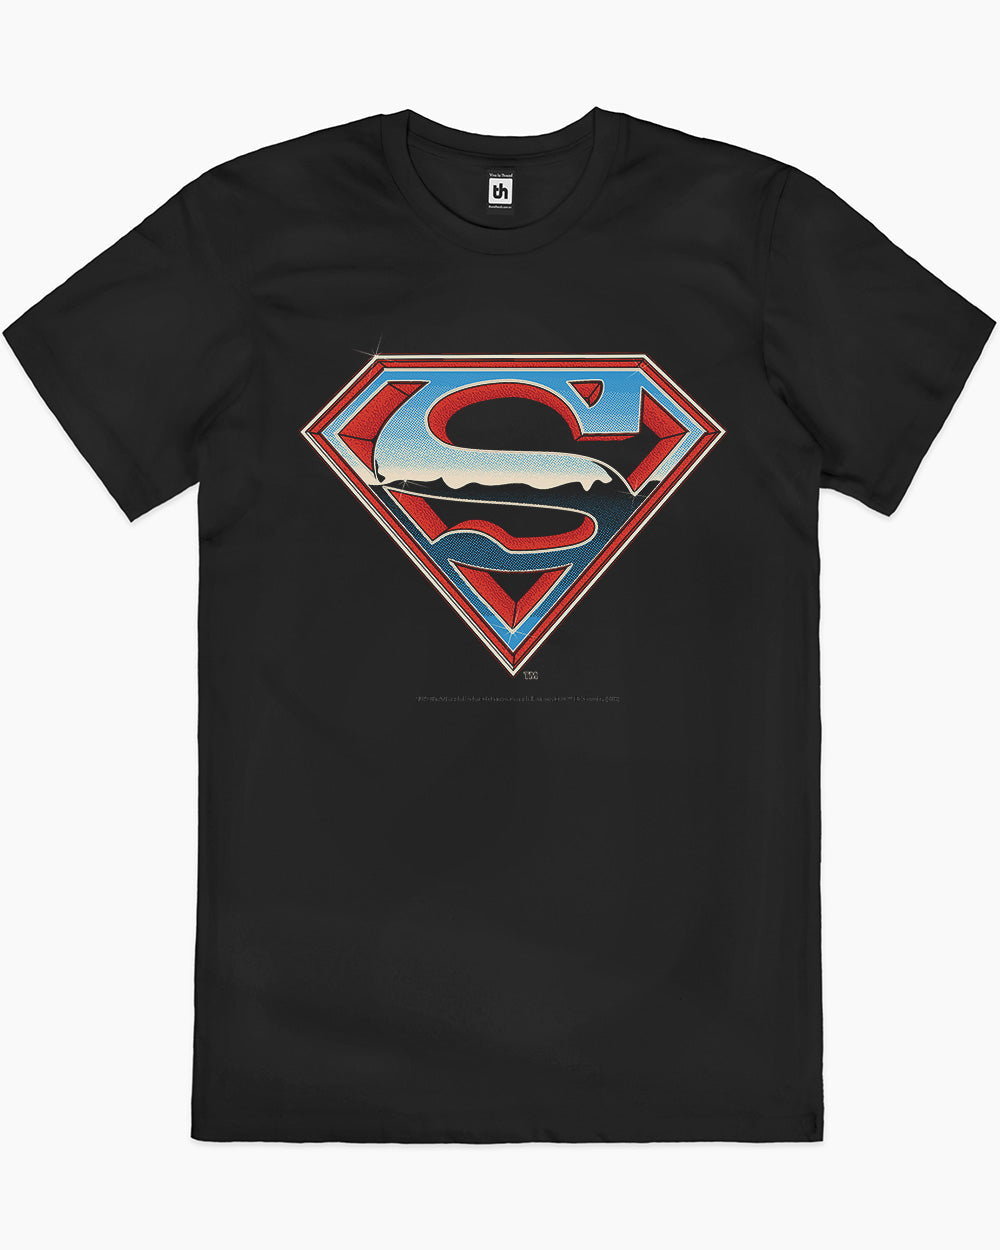design: (292, 333, 731, 709)
